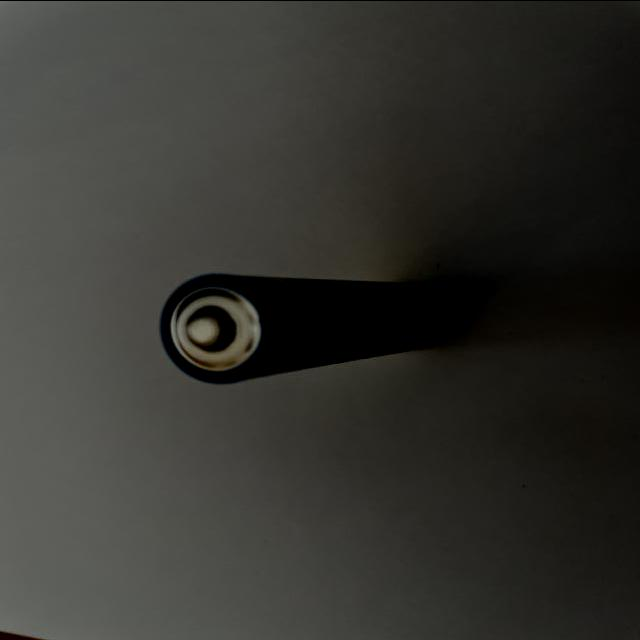AAA: (159, 272, 454, 387)
